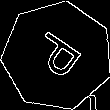P_SE: (26, 26, 88, 85)
